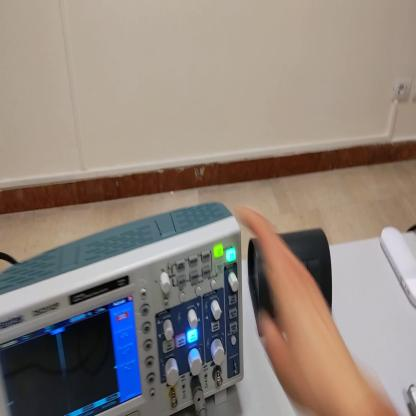hand: (241, 206, 361, 416)
oscilloscope: (1, 199, 245, 416)
